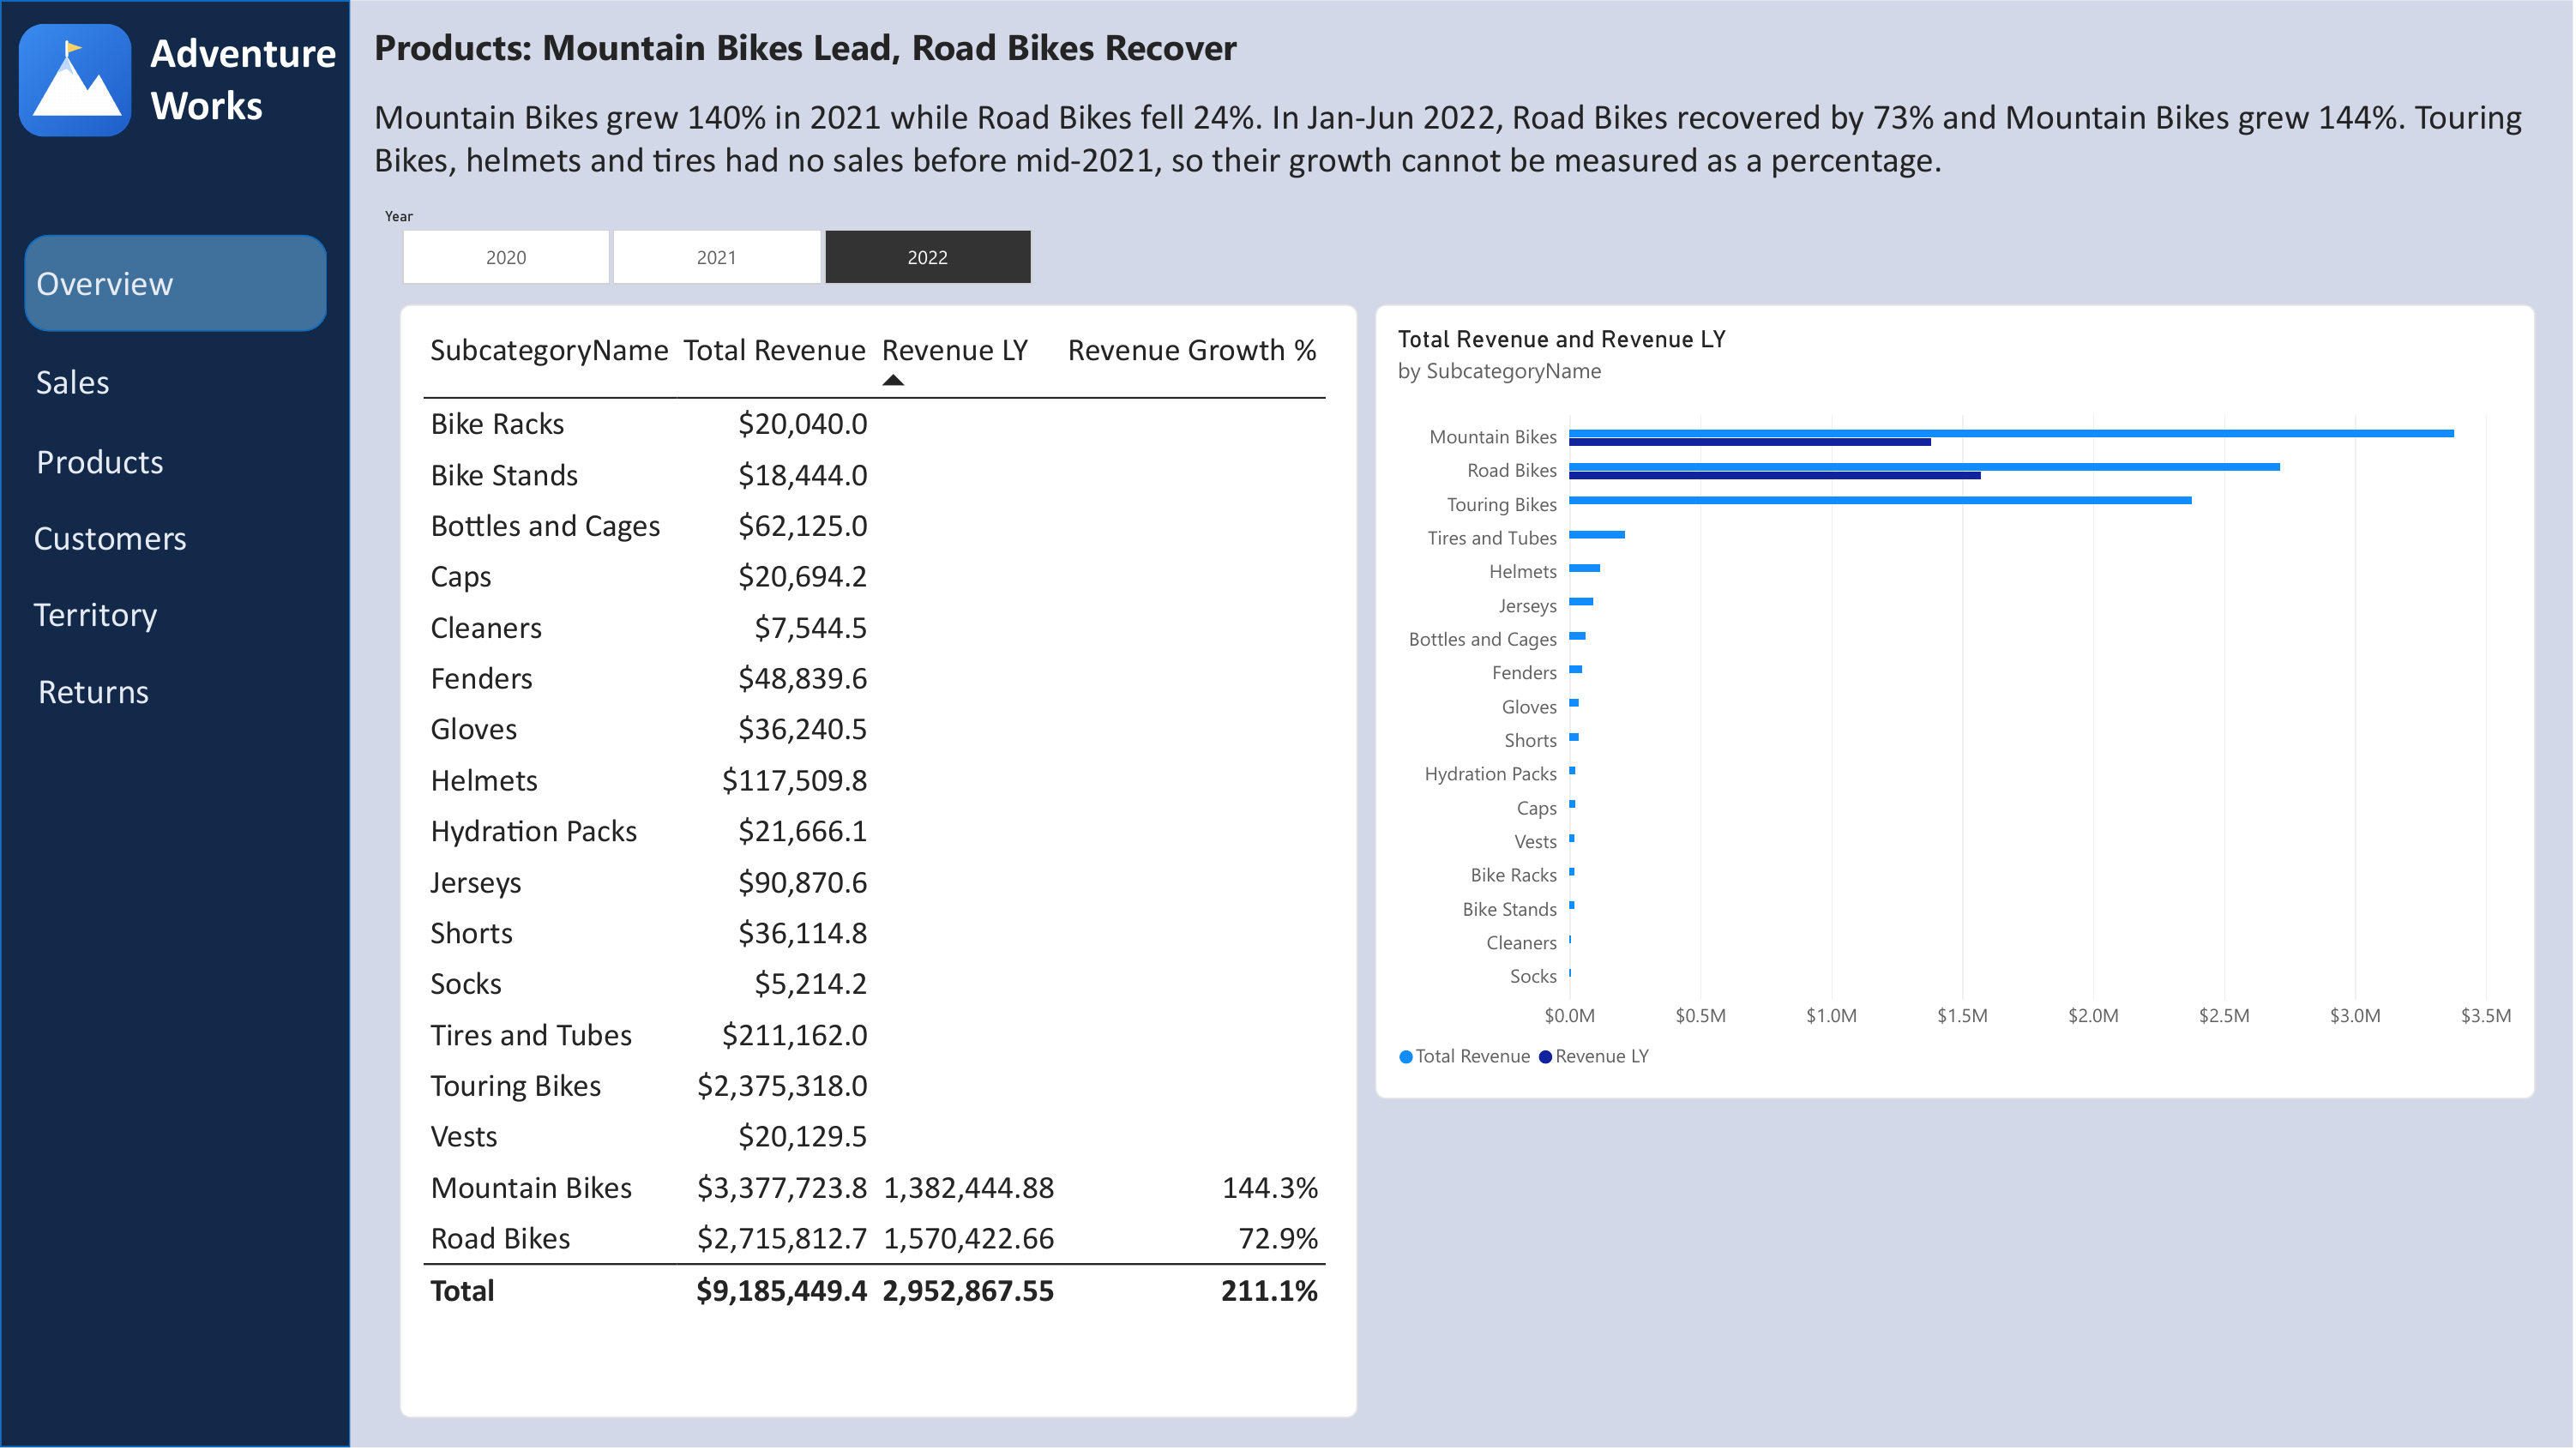

Layout of this report page (visuals, bound fields, positions):
{"tool":"powerbi","page":{"name":"Products","canvas":[1920,1080],"ordinal":2},"visuals":[{"type":"tableEx","fields":{"Values":["dim_Subcategory.SubcategoryName","fact_Sales.Total Revenue","fact_Sales.Revenue LY","fact_Sales.Revenue Growth %"]},"box":[298.3,226.7,715.2,830.8],"z":0},{"type":"slicer","fields":{"Values":["dim_Calendar.Year"]},"box":[279.1,155.2,510,58.6],"z":1000},{"type":"clusteredBarChart","fields":{"Category":["dim_Subcategory.SubcategoryName"],"Y":["fact_Sales.Total Revenue","fact_Sales.Revenue LY"]},"box":[1025.6,226.7,866.9,593],"z":2000},{"type":"textbox","box":[279.1,15.7,1613.4,139.5],"z":3000},{"type":"shape","box":[0,0,261.1,1080],"z":3001},{"type":"textbox","box":[112,20,253,150],"z":3002},{"type":"image","box":[12,16,86.7,86.7],"z":3003},{"type":"shape","box":[17.7,174.6,226.5,72.9],"z":3004},{"type":"textbox","box":[26.9,194.9,301,63.4],"z":3005},{"type":"textbox","box":[26.9,269.3,301,36.4],"z":3006},{"type":"textbox","box":[25.3,442,196.4,33.3],"z":3007},{"type":"textbox","box":[25.3,385,213.9,34.9],"z":3008},{"type":"textbox","box":[26.9,327.9,299.4,42.8],"z":3009},{"type":"textbox","box":[28.3,500,102.5,32.5],"z":3010},{"type":"actionButton","box":[23.3,265.8,69.2,40],"z":3011},{"type":"actionButton","box":[25,328.3,107.5,42.5],"z":3012},{"type":"actionButton","box":[25,389.2,118.3,40],"z":3013},{"type":"actionButton","box":[25,438.3,99.2,40],"z":3014},{"type":"actionButton","box":[26.7,490,100,50],"z":3015},{"type":"actionButton","box":[18.4,170.8,202.7,77],"z":3016}]}

Visuals, with their boxes on the page's 1920x1080 design canvas (x1, y1, x2, y2). These are canvas units, not pixel positions in the 2576x1450 screenshot, which may show the page scaled, cropped or inside an application window:
tableEx - dim_Subcategory.SubcategoryName x fact_Sales.Total Revenue: region(298, 227, 1014, 1058)
slicer - dim_Calendar.Year: region(279, 155, 789, 214)
clusteredBarChart - dim_Subcategory.SubcategoryName x fact_Sales.Total Revenue: region(1026, 227, 1892, 820)
textbox: region(279, 16, 1892, 155)
shape: region(0, 0, 261, 1080)
textbox: region(112, 20, 365, 170)
image: region(12, 16, 99, 103)
shape: region(18, 175, 244, 248)
textbox: region(27, 195, 328, 258)
textbox: region(27, 269, 328, 306)
textbox: region(25, 442, 222, 475)
textbox: region(25, 385, 239, 420)
textbox: region(27, 328, 326, 371)
textbox: region(28, 500, 131, 532)
actionButton: region(23, 266, 92, 306)
actionButton: region(25, 328, 132, 371)
actionButton: region(25, 389, 143, 429)
actionButton: region(25, 438, 124, 478)
actionButton: region(27, 490, 127, 540)
actionButton: region(18, 171, 221, 248)
